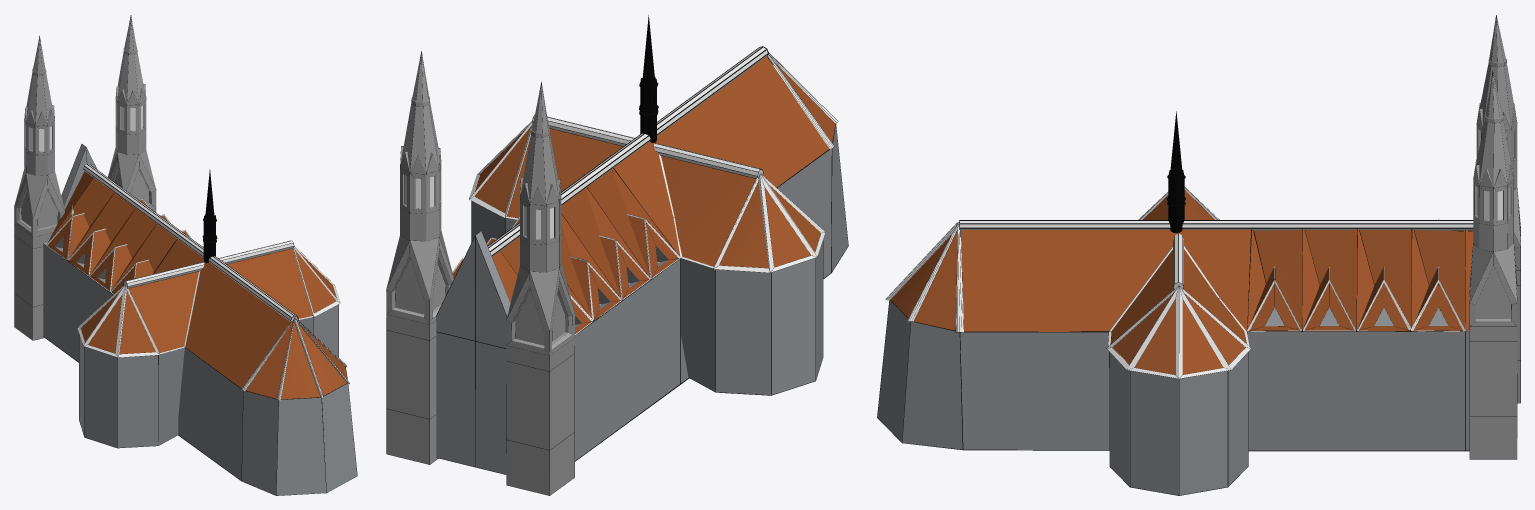
The model's file is catolica-elisabetin.gltf.
3 renders of one model, left to right at view 1: azimuth 30°, elevation 25°; view 2: azimuth 150°, elevation 25°; view 3: azimuth 270°, elevation 25°, orthographic. The views are drawn at different scales.
Parts seen in each view (by area): view 1: Cube, Cube.003, Cube.001, Cylinder.005, Cube.002, Cylinder, Cube.006, Cylinder.001, Cube.005, Cylinder.002, Cube.007; view 2: Cube, Cube.003, Cube.001, Cube.002, Cylinder.005, Cube.006, Cylinder, Cylinder.001, Cylinder.002, Cube.007, Cube.005; view 3: Cube, Cube.003, Cube.002, Cylinder.005, Cylinder, Cube.001, Cube.006, Cube.005, Cube.007, Cylinder.002.
Boxes of the visible parts, x1,y1,x2,y2 form: Cube: (43,144,357,495); Cube.003: (48,171,347,399); Cube.001: (14,38,64,340); Cylinder.005: (14,15,357,495); Cube.002: (108,17,156,212); Cylinder: (83,164,297,321); Cube.006: (77,246,340,357); Cylinder.001: (124,241,293,288); Cube.005: (242,318,349,400); Cylinder.002: (202,175,217,263); Cube.007: (46,199,203,294); Cube: (436,124,848,474); Cube.003: (453,56,835,333); Cube.001: (506,85,574,495); Cube.002: (386,53,453,464); Cylinder.005: (386,15,848,495); Cube.006: (469,121,825,272); Cylinder: (488,47,767,256); Cylinder.001: (532,115,762,178); Cylinder.002: (639,21,658,142); Cube.007: (452,214,680,334); Cube.005: (767,53,837,149); Cube: (877,300,1469,495); Cube.003: (891,190,1473,374); Cube.002: (1469,74,1517,459); Cylinder.005: (877,15,1520,495); Cylinder: (960,221,1473,230); Cube.001: (1476,17,1520,402); Cube.006: (1107,187,1250,378); Cube.005: (885,223,963,332); Cube.007: (1247,266,1465,331); Cylinder.002: (1166,117,1185,233).
Bounding box in the file's own units: 5.37 × 6.03 × 9.29.
